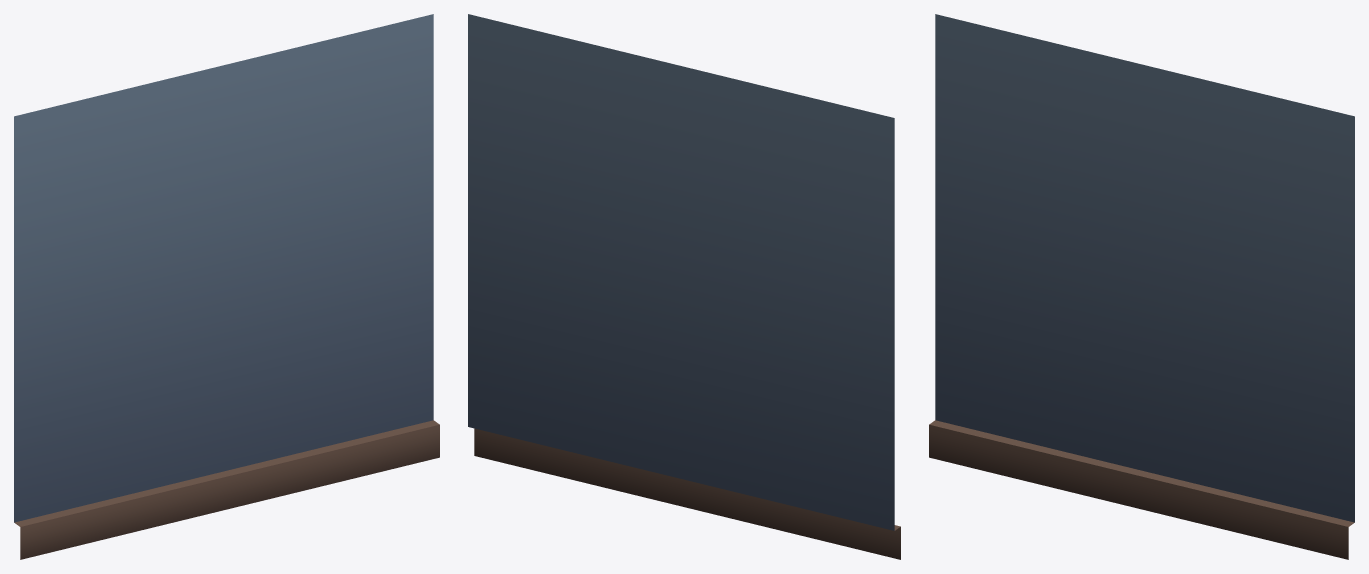
File: bedroom_wall.fbx
The picture shows the model from 3 angles, left to right: view 1: azimuth 30°, elevation 25°; view 2: azimuth 150°, elevation 25°; view 3: azimuth 330°, elevation 25°; orthographic projection.
Parts seen in each view (by area): view 1: Bedroom_wall; view 2: Bedroom_wall; view 3: Bedroom_wall.
Part boxes in pixels (bbox=[...]): Bedroom_wall: bbox=[14, 14, 439, 559]; Bedroom_wall: bbox=[468, 14, 900, 559]; Bedroom_wall: bbox=[929, 14, 1354, 559].
Size of the model in its own units: 300 by 300 by 7.5.
